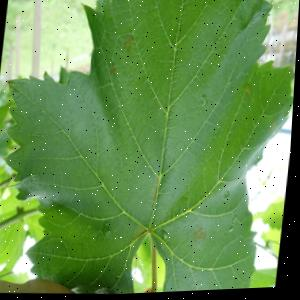Folha: (0, 0, 300, 300)
Fungo: (122, 35, 135, 56), (195, 228, 210, 244), (242, 84, 255, 102), (109, 67, 117, 78), (145, 288, 155, 294)
